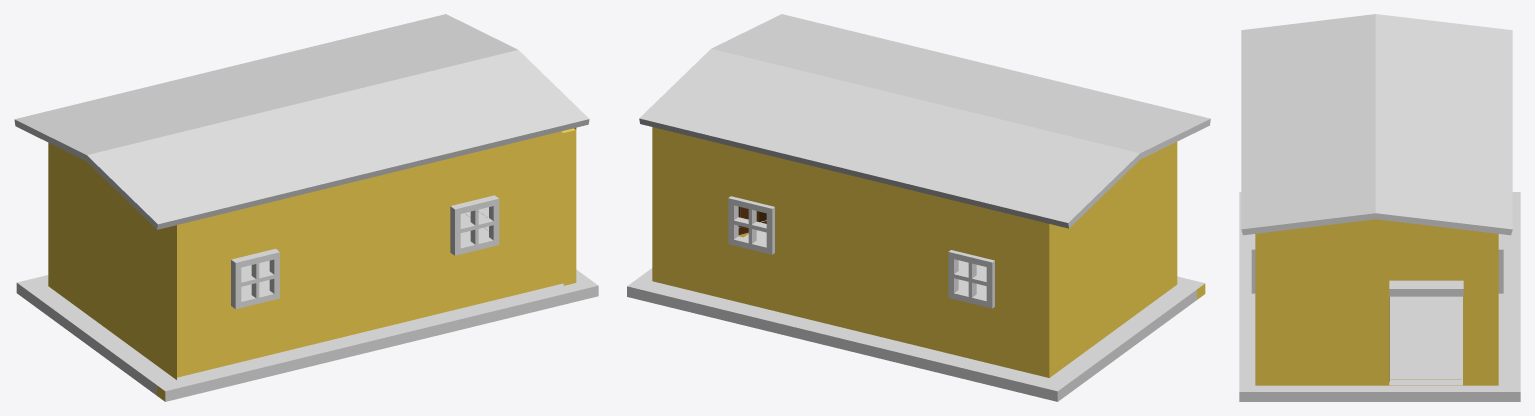
File: House.fbx
3 views of the same model, side by side, from view 1: azimuth 30°, elevation 25°; view 2: azimuth 150°, elevation 25°; view 3: azimuth 270°, elevation 25° (orthographic). The views are drawn at different scales.
Visible parts, largest first — view 1: House, Roof, Frame.001; view 2: House, Roof, Frame; view 3: Roof, House, Frame, Frame.001.
Boxes of the visible parts, x1=… form: House: x1=16, y1=128, x2=598, y2=401; Roof: x1=14, y1=14, x2=589, y2=229; Frame.001: x1=231, y1=195, x2=499, y2=309; House: x1=627, y1=127, x2=1205, y2=401; Roof: x1=639, y1=14, x2=1210, y2=228; Frame: x1=728, y1=196, x2=994, y2=308; Roof: x1=1241, y1=14, x2=1512, y2=235; House: x1=1239, y1=192, x2=1520, y2=401; Frame: x1=1498, y1=234, x2=1503, y2=293; Frame.001: x1=1251, y1=234, x2=1255, y2=293.
Size of the model in its own units: 3988 by 1679 by 2311.
